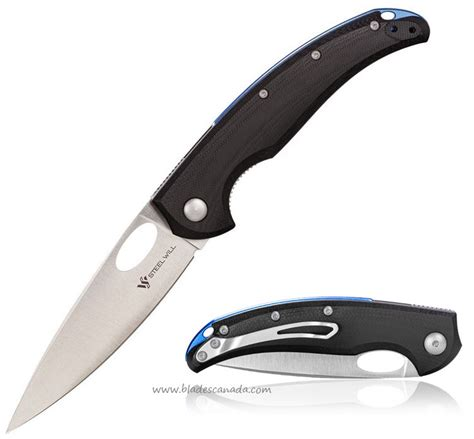knife: (7, 6, 432, 433), (187, 293, 464, 382)
